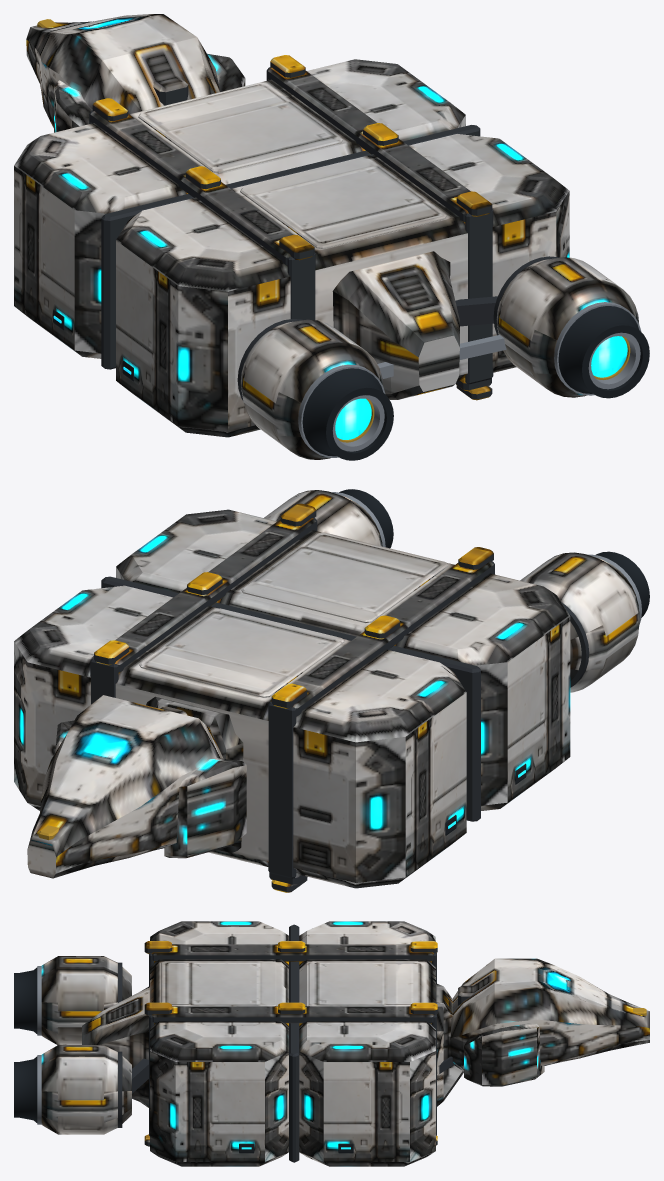
Rendered from tiny-freighter.glb.
3 renders of one model, top to bottom at view 1: azimuth 30°, elevation 25°; view 2: azimuth 150°, elevation 25°; view 3: azimuth 270°, elevation 25°, orthographic. The views are drawn at different scales.
Parts seen in each view (by area): view 1: Reference artwork | titanium, brass, panels and canopy, Structural frames | gunmetal, Structural rails | dark alloy, Machined titanium edges, Ventral armor | dedicated bottom-view reference; view 2: Reference artwork | titanium, brass, panels and canopy, Structural frames | gunmetal, Ventral armor | dedicated bottom-view reference, Structural rails | dark alloy, Machined titanium edges; view 3: Reference artwork | titanium, brass, panels and canopy, Structural frames | gunmetal, Ventral armor | dedicated bottom-view reference, Structural rails | dark alloy, Machined titanium edges.
Boxes of the visible parts, left/top/right/bottom form: Reference artwork | titanium, brass, panels and canopy: left=14, top=14, right=638, bottom=439; Structural frames | gunmetal: left=89, top=62, right=558, bottom=400; Structural rails | dark alloy: left=53, top=306, right=649, bottom=460; Machined titanium edges: left=298, top=302, right=641, bottom=457; Ventral armor | dedicated bottom-view reference: left=17, top=146, right=586, bottom=459; Reference artwork | titanium, brass, panels and canopy: left=14, top=490, right=639, bottom=882; Structural frames | gunmetal: left=90, top=510, right=589, bottom=891; Ventral armor | dedicated bottom-view reference: left=28, top=596, right=637, bottom=892; Structural rails | dark alloy: left=339, top=489, right=649, bottom=835; Machined titanium edges: left=332, top=492, right=641, bottom=624; Reference artwork | titanium, brass, panels and canopy: left=41, top=921, right=649, bottom=1161; Structural frames | gunmetal: left=118, top=924, right=469, bottom=1162; Ventral armor | dedicated bottom-view reference: left=41, top=952, right=649, bottom=1166; Structural rails | dark alloy: left=14, top=967, right=353, bottom=1153; Machined titanium edges: left=37, top=966, right=41, bottom=1124.
Size of the model in its own units: 7.65 by 3.61 by 14.98.
Materials: 7 (2 with a texture image).
